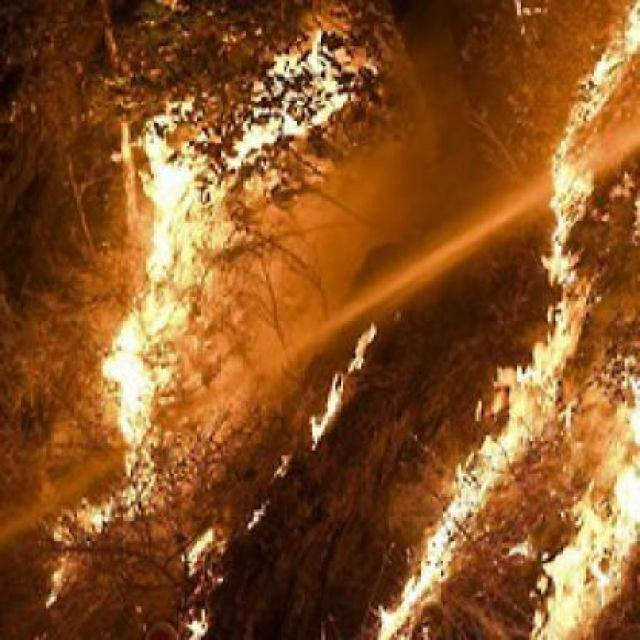Fire: (60, 78, 260, 620), (493, 1, 638, 632)
